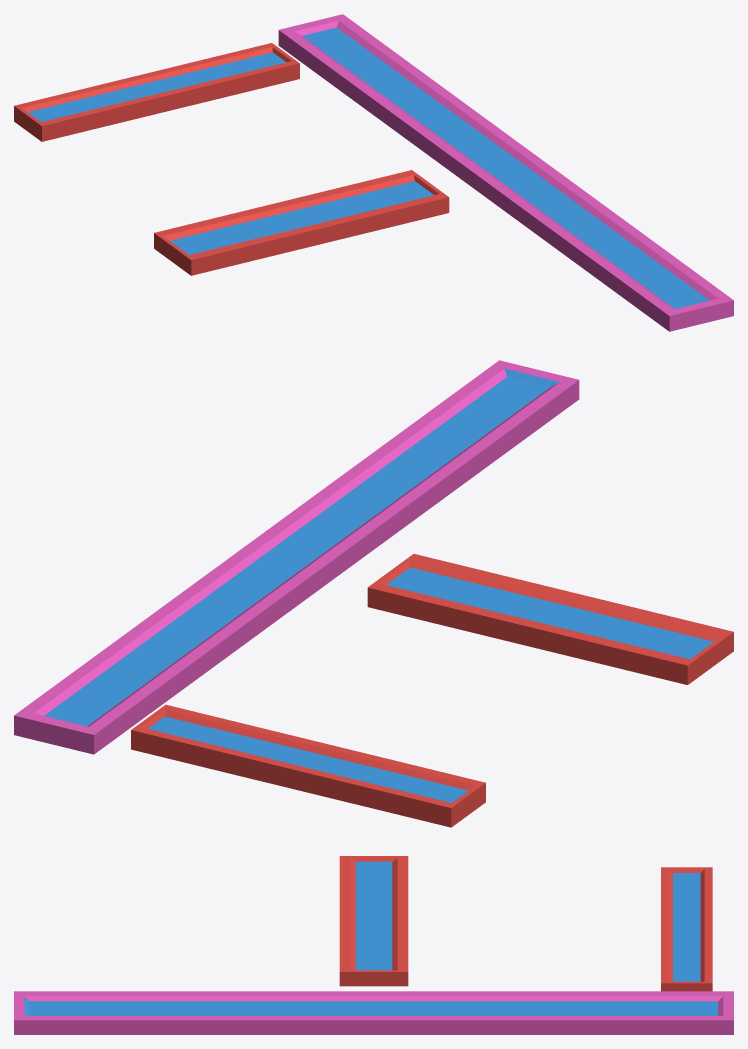
Rendered from Pilares_Arriba_Corr_Bien.fbx.
3 renders of one model, top to bottom at view 1: azimuth 30°, elevation 25°; view 2: azimuth 150°, elevation 25°; view 3: azimuth 270°, elevation 25°, orthographic. The views are drawn at different scales.
Parts seen in each view (by area): view 1: Cube.045, Cube.046, Cube.047; view 2: Cube.045, Cube.046, Cube.047; view 3: Cube.045, Cube.046, Cube.047.
Boxes of the visible parts, box(x1,y1,x2,y2) form: Cube.045: box(278, 14, 733, 331); Cube.046: box(154, 170, 449, 275); Cube.047: box(14, 43, 299, 141); Cube.045: box(14, 360, 579, 754); Cube.046: box(367, 554, 733, 684); Cube.047: box(131, 704, 485, 827); Cube.045: box(14, 991, 733, 1034); Cube.046: box(339, 856, 408, 986); Cube.047: box(661, 867, 712, 991).
Size of the model in its own units: 1135 by 46.67 by 2100.
